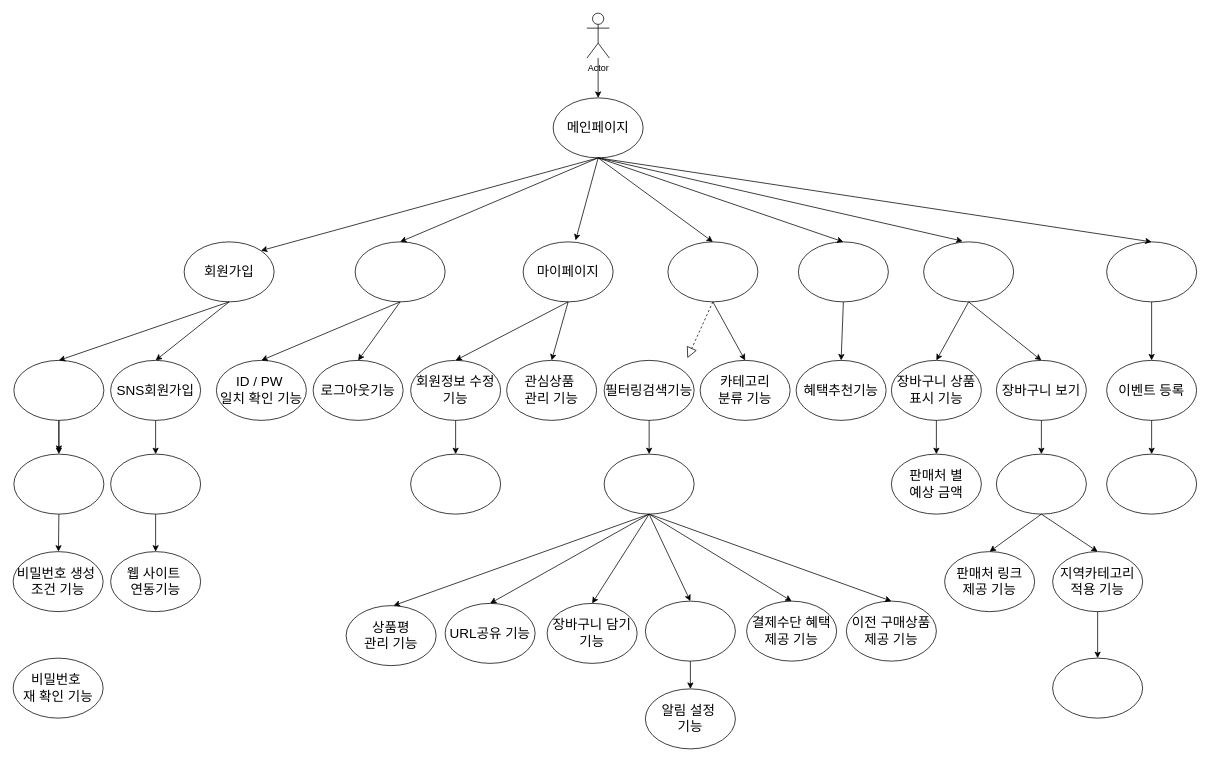
Some shapes in this 1210 by 762 pixel diagram are drawn without their labels. The shapes that lost their labels are listed below. From the top down, each one's box as (x1, y1, x2, y2) in pixels, then its label:
(354, 241, 445, 302): 로그인
(667, 241, 758, 302): 상품검색
(798, 241, 888, 302): 결제수단검색
(923, 241, 1014, 302): 장바구니
(1106, 241, 1197, 302): 이벤트일정
(13, 360, 104, 420): 일반회원가입
(13, 453, 104, 514): 아이디 중복 체크 기능
(110, 453, 201, 514): SNS정보제공 동의 기능
(410, 453, 501, 514): 회원탈퇴 기능
(603, 453, 694, 514): 상세페이지 조회 기능
(996, 453, 1086, 514): 최종결제 금액 표시 기능
(1106, 453, 1197, 514): 이벤트 검색
(645, 600, 735, 661): 관심상품 설정기능
(1052, 657, 1143, 718): 판매처 지도 표기 기능
